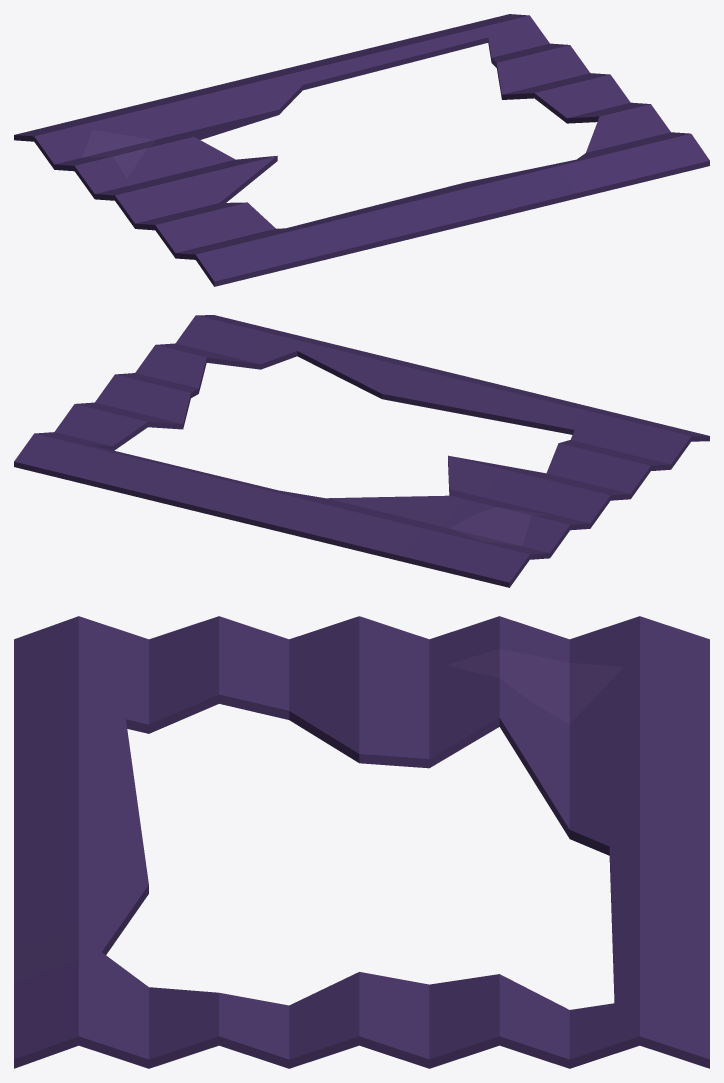
The model's file is SheetMetal_D_3.glb.
3 renders of one model, top to bottom at view 1: azimuth 30°, elevation 25°; view 2: azimuth 150°, elevation 25°; view 3: azimuth 270°, elevation 25°, orthographic. The views are drawn at different scales.
Visible parts, largest first — view 1: SheetMetal_D_3; view 2: SheetMetal_D_3; view 3: SheetMetal_D_3.
Boxes of the visible parts, left/top/right/bottom form: SheetMetal_D_3: left=14, top=14, right=709, bottom=286; SheetMetal_D_3: left=14, top=315, right=709, bottom=587; SheetMetal_D_3: left=14, top=616, right=709, bottom=1068.
Size of the model in its own units: 1.37 by 0.0496 by 0.9603.
1 material, 1 textured.
